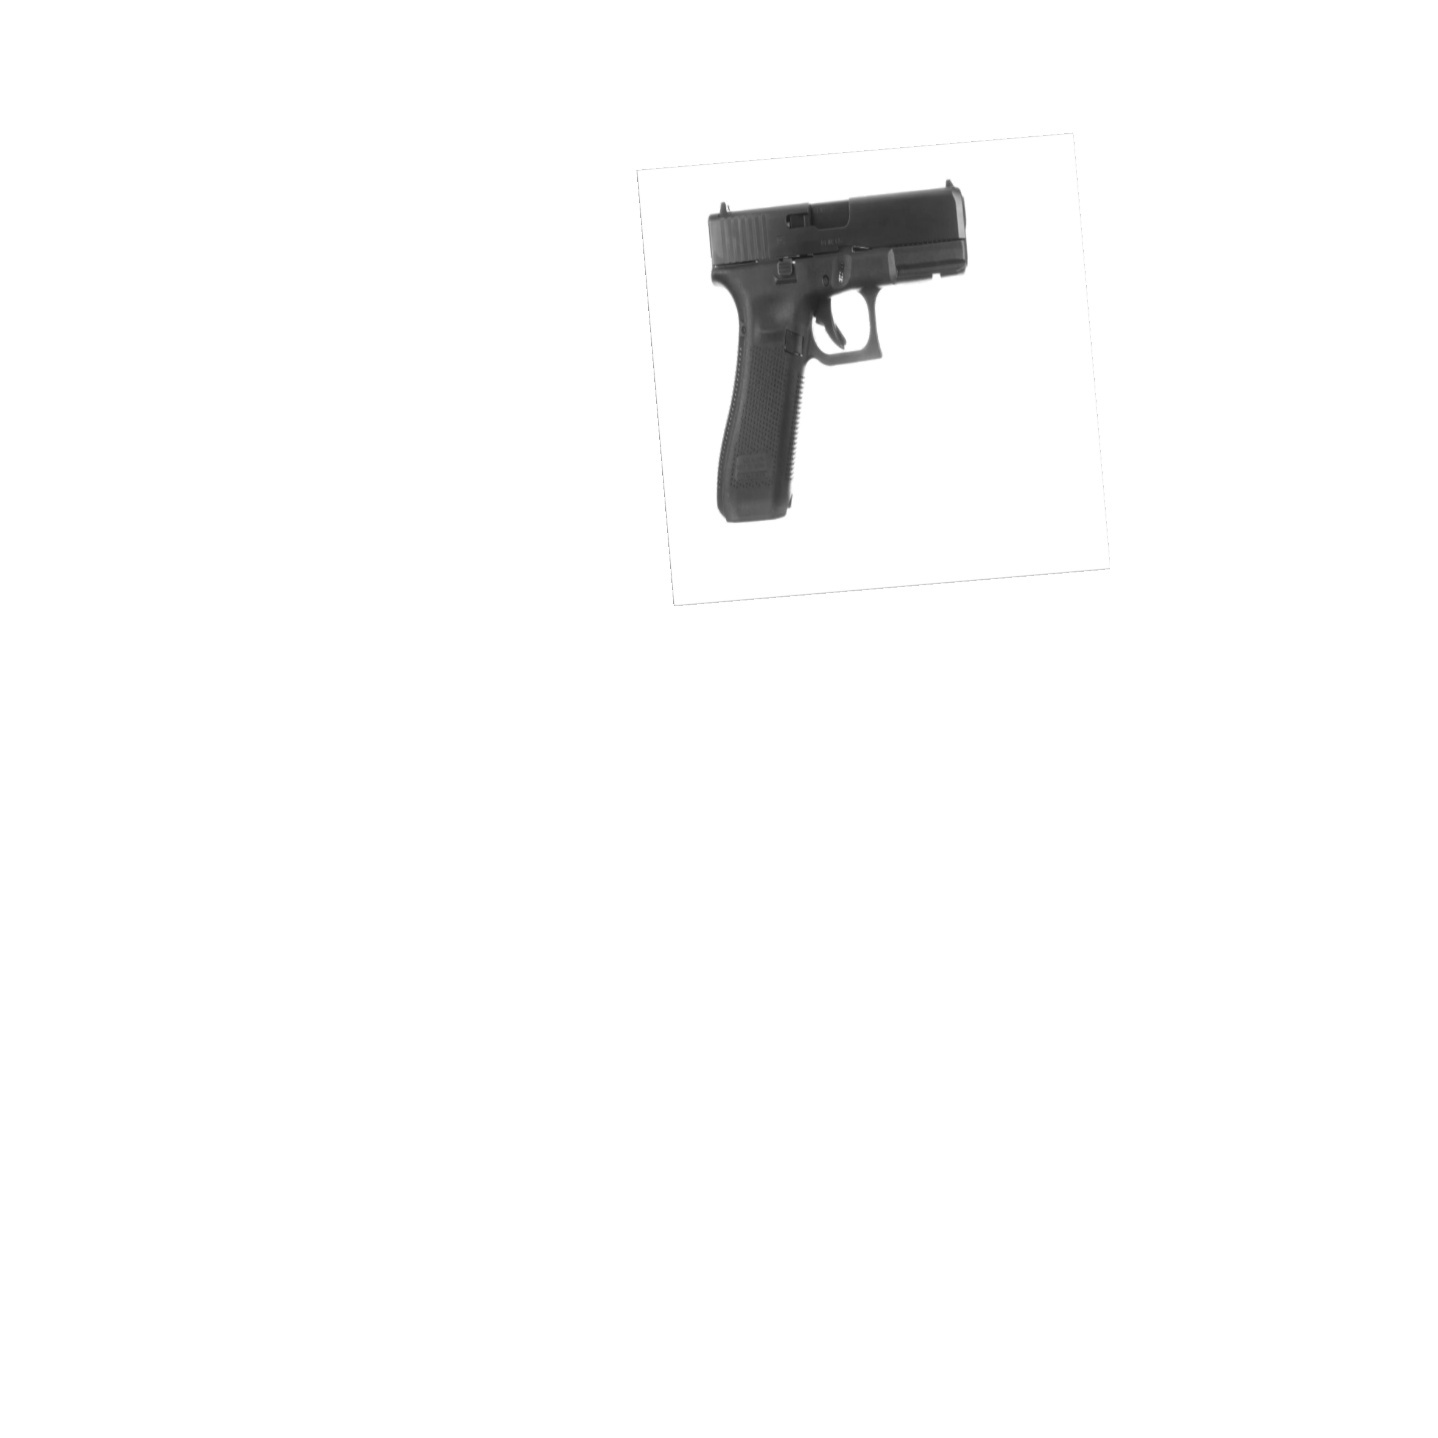gun: (705, 174, 974, 529)
